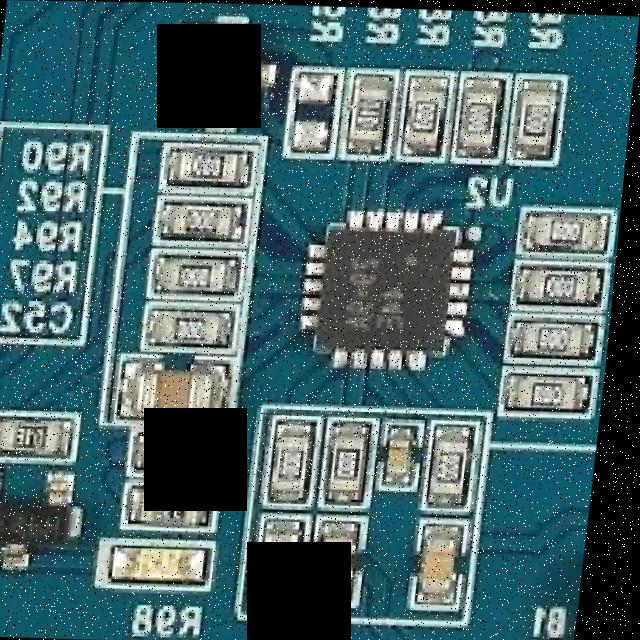4439: (171, 26, 270, 127), (0, 468, 84, 565)
IC: (328, 211, 468, 362)
LED: (125, 543, 210, 579)
capacitor 1V5: (136, 359, 225, 425), (425, 522, 474, 598), (268, 518, 315, 597), (323, 524, 364, 596), (388, 428, 431, 475)
resistor IR1: (275, 427, 325, 493), (139, 482, 219, 523), (333, 426, 377, 497), (523, 316, 593, 358), (515, 369, 595, 405), (351, 71, 389, 145), (531, 264, 601, 304), (142, 436, 222, 470), (160, 255, 232, 292), (465, 82, 501, 154), (172, 199, 238, 238), (4, 416, 74, 452), (408, 74, 443, 145), (518, 91, 556, 156), (177, 146, 241, 180), (159, 308, 224, 341), (539, 211, 595, 245), (438, 437, 472, 493)
